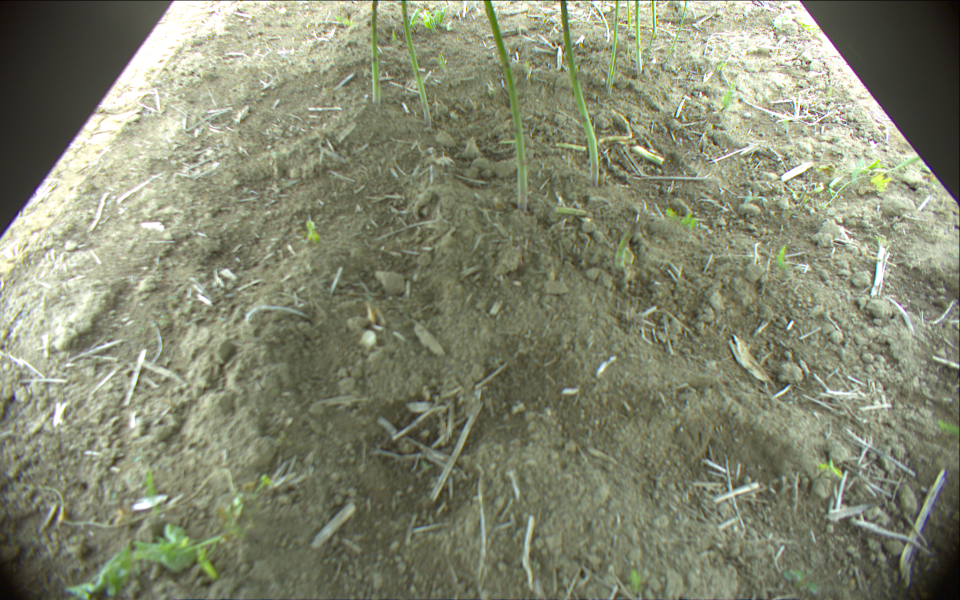aspa: (482, 1, 529, 211), (560, 1, 600, 187), (400, 1, 433, 124), (663, 1, 687, 65), (613, 219, 639, 271), (370, 1, 382, 105), (606, 1, 619, 92), (642, 1, 658, 68), (590, 3, 611, 42), (633, 1, 643, 75), (625, 1, 633, 30)
